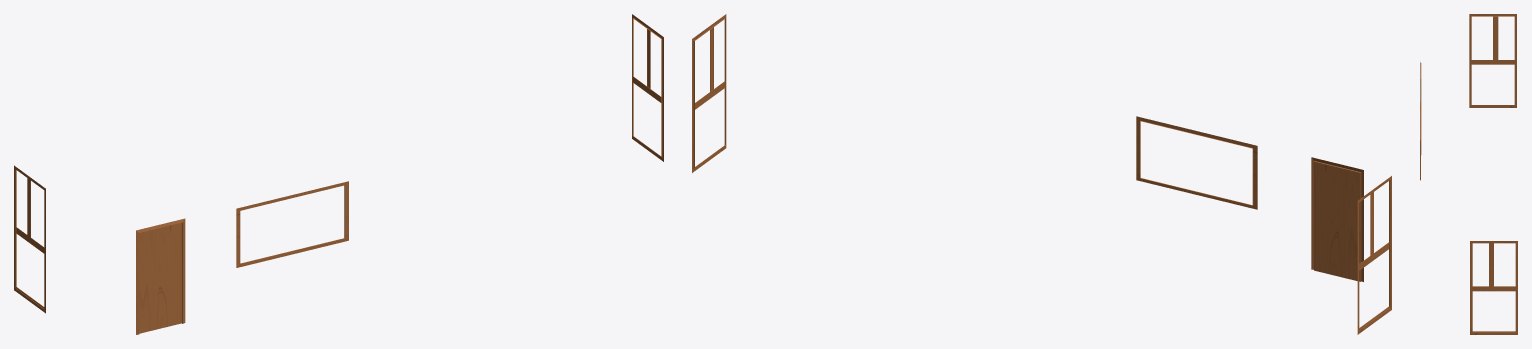
File: buildig.004_wood_(shine)_0.001_lev3.glb
The picture shows the model from 3 angles, left to right: view 1: azimuth 30°, elevation 25°; view 2: azimuth 150°, elevation 25°; view 3: azimuth 270°, elevation 25°; orthographic projection. The views are drawn at different scales.
Visible parts, largest first — view 1: buildig.004_wood_(shine)_0.001_lev3; view 2: buildig.004_wood_(shine)_0.001_lev3; view 3: buildig.004_wood_(shine)_0.001_lev3.
Part boxes in pixels (x1=…): buildig.004_wood_(shine)_0.001_lev3: x1=14, y1=14, x2=663, y2=334; buildig.004_wood_(shine)_0.001_lev3: x1=692, y1=14, x2=1391, y2=334; buildig.004_wood_(shine)_0.001_lev3: x1=1420, y1=14, x2=1517, y2=334.
Size of the model in its own units: 3.68 by 0.7775 by 0.6699.
Materials: 1 (1 with a texture image).
